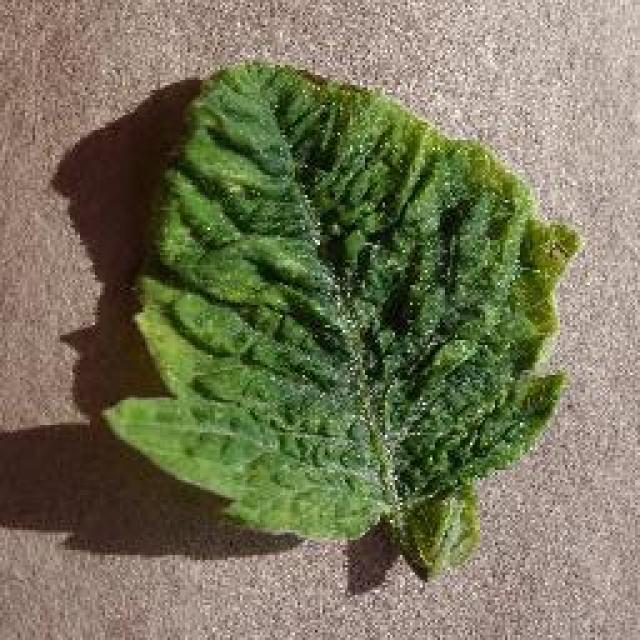Tom_Yellow_Leaf_Curl_Virus: (139, 69, 550, 528)
